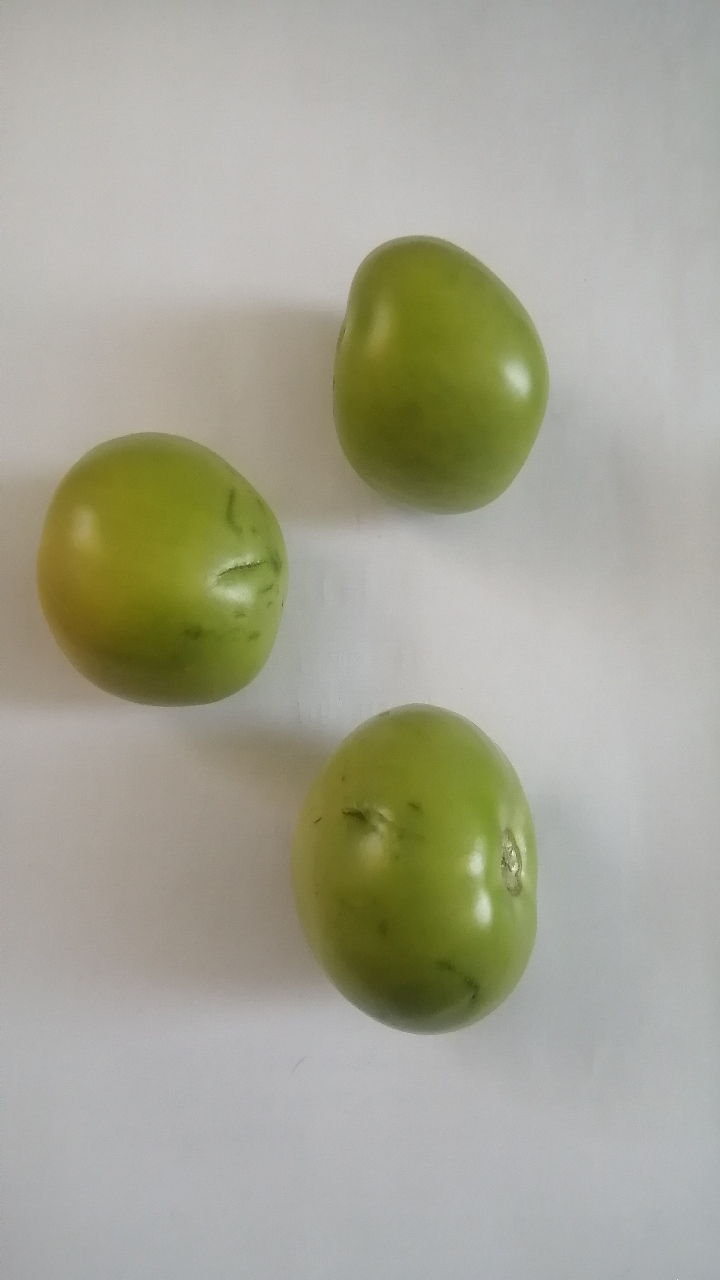tomateVerde: (272, 680, 583, 1088), (31, 402, 295, 732), (312, 212, 577, 522)
